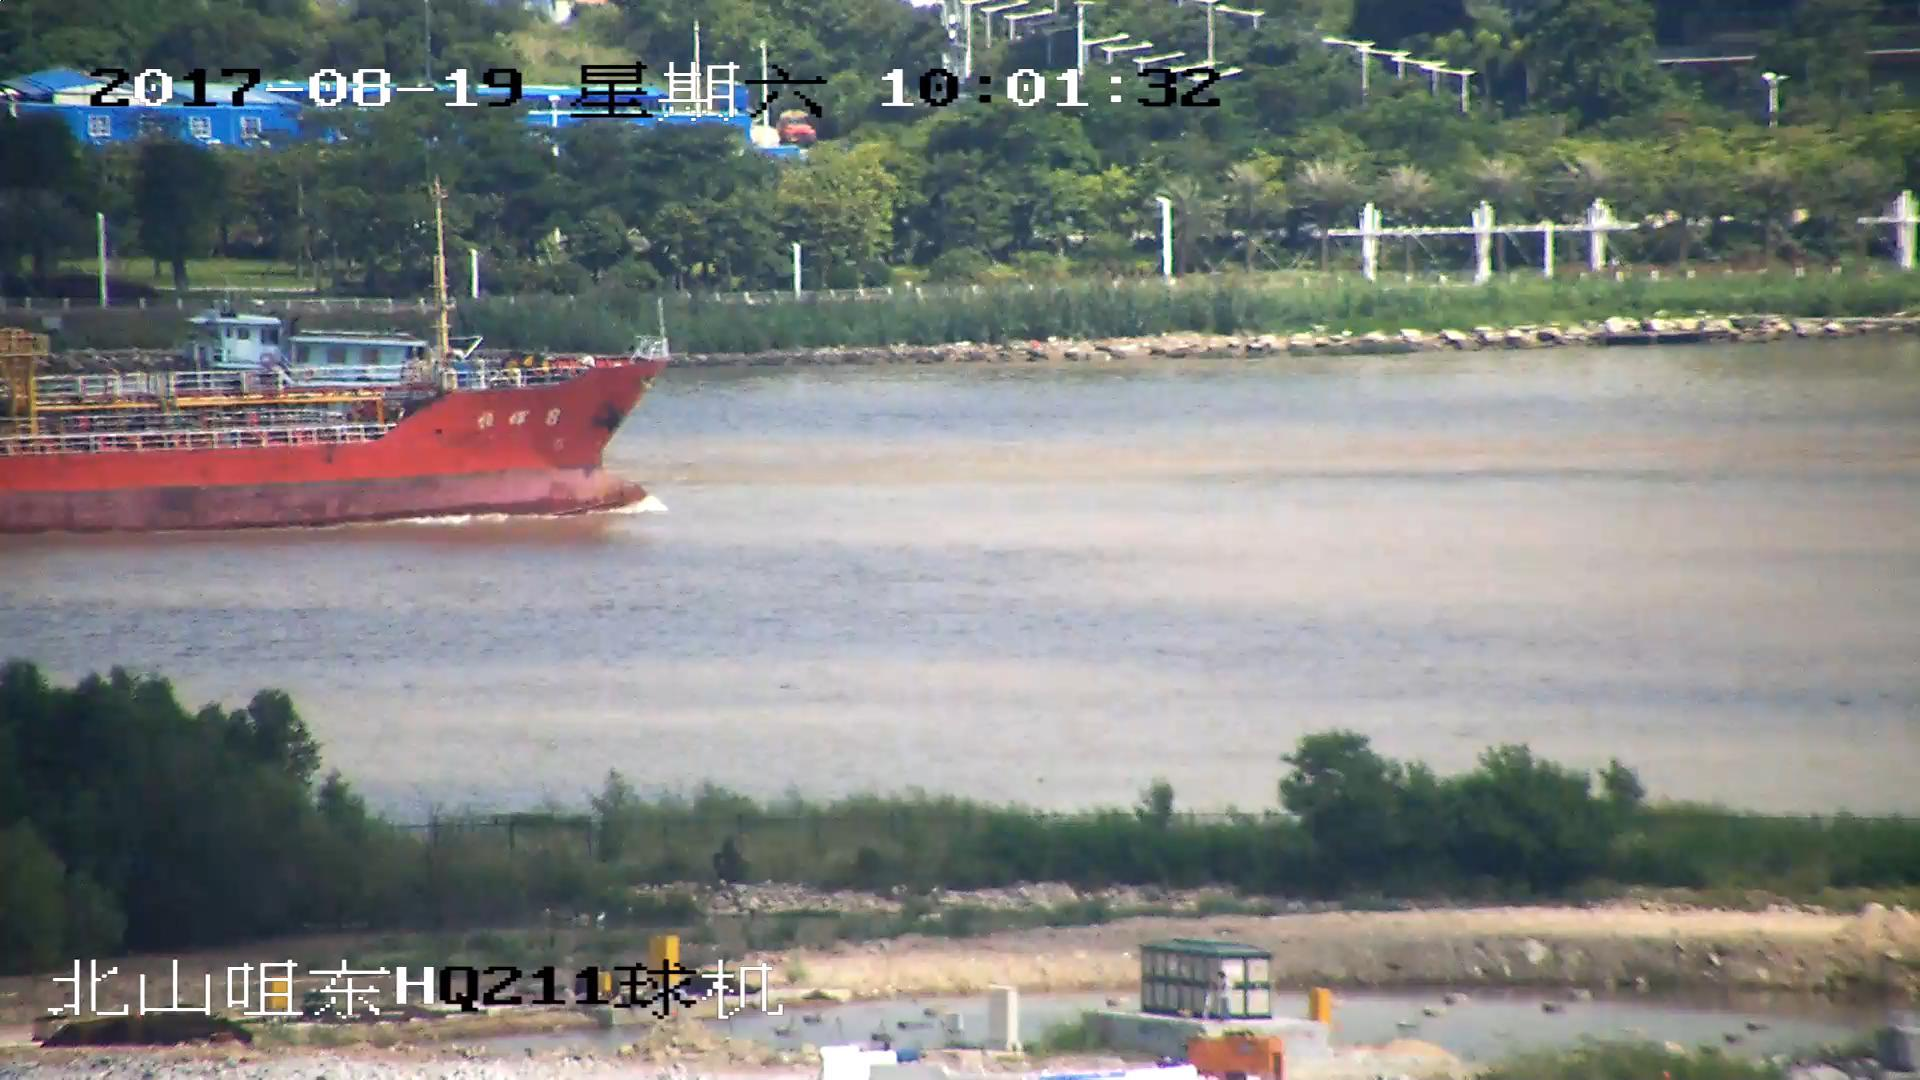Ship: (3, 181, 674, 529)
